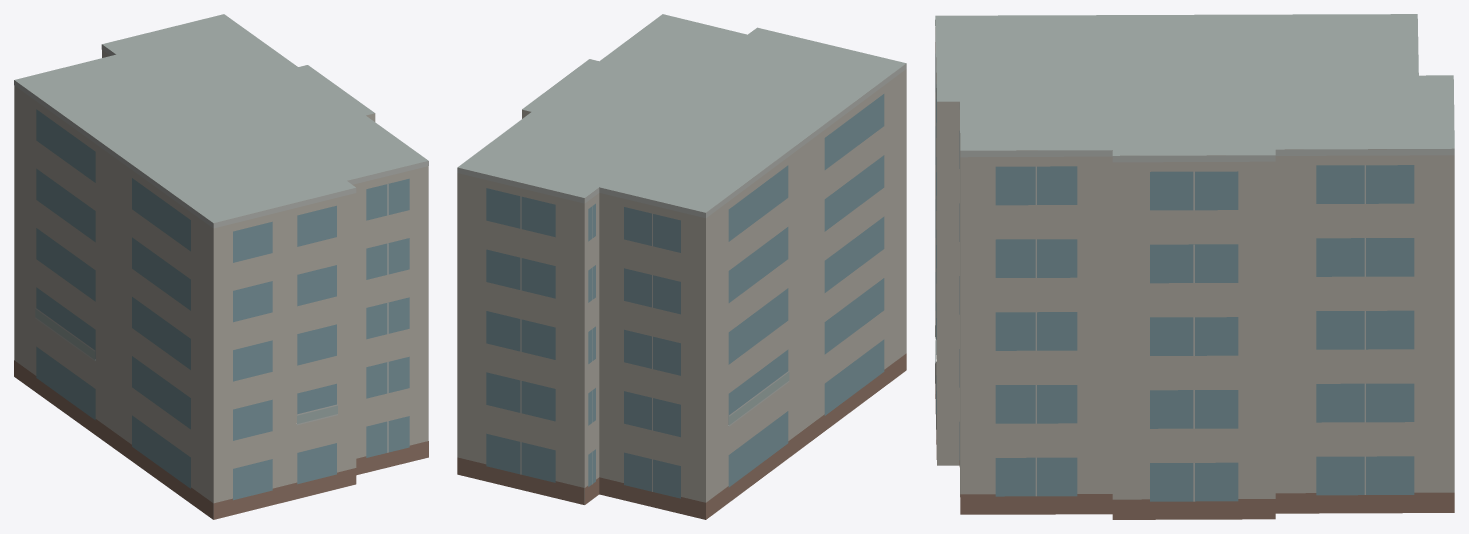
File: survey-upis-32606553.glb
The picture shows the model from 3 angles, left to right: view 1: azimuth 30°, elevation 25°; view 2: azimuth 150°, elevation 25°; view 3: azimuth 270°, elevation 25°; orthographic projection. The views are drawn at different scales.
Visible parts, largest first — view 1: survey-upis-32606553.tmp; view 2: survey-upis-32606553.tmp; view 3: survey-upis-32606553.tmp.
Part boxes in pixels (x1=…): survey-upis-32606553.tmp: x1=14, y1=14, x2=428, y2=519; survey-upis-32606553.tmp: x1=457, y1=14, x2=906, y2=519; survey-upis-32606553.tmp: x1=935, y1=14, x2=1454, y2=519.
Size of the model in its own units: 11.39 by 13.6 by 17.6.
